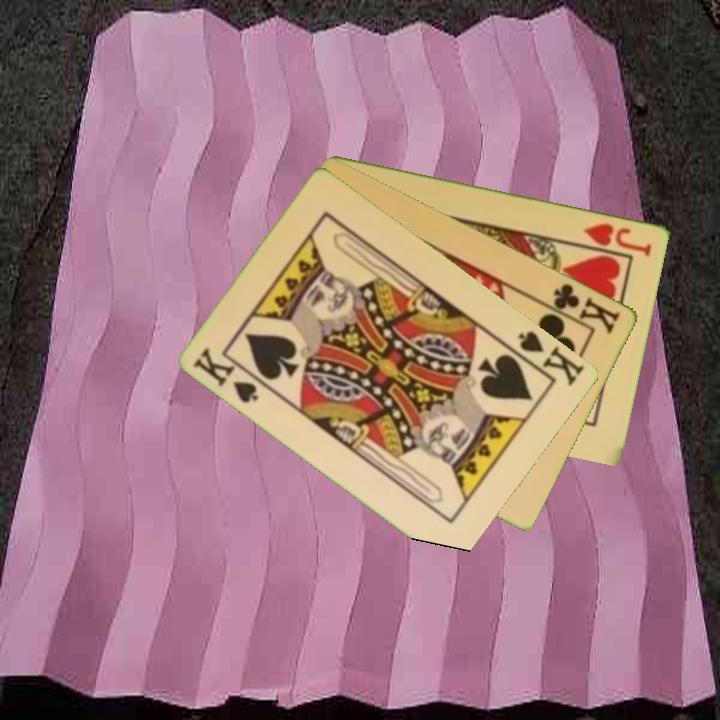Jh: (580, 219, 655, 259)
Kc: (541, 279, 624, 337)
Ks: (505, 327, 588, 389), (190, 343, 263, 406)
